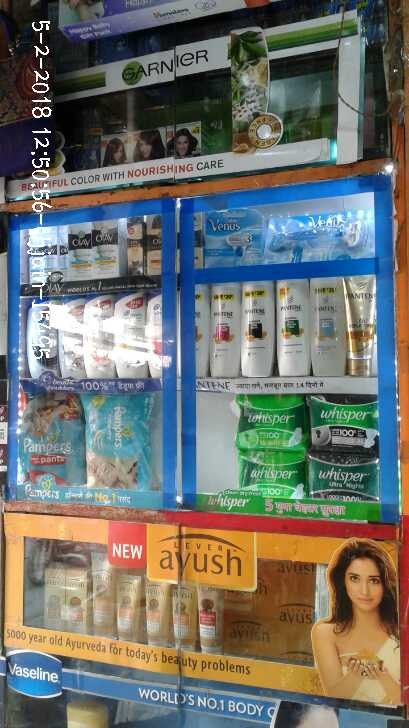venus: (268, 211, 376, 258), (203, 212, 263, 263)
